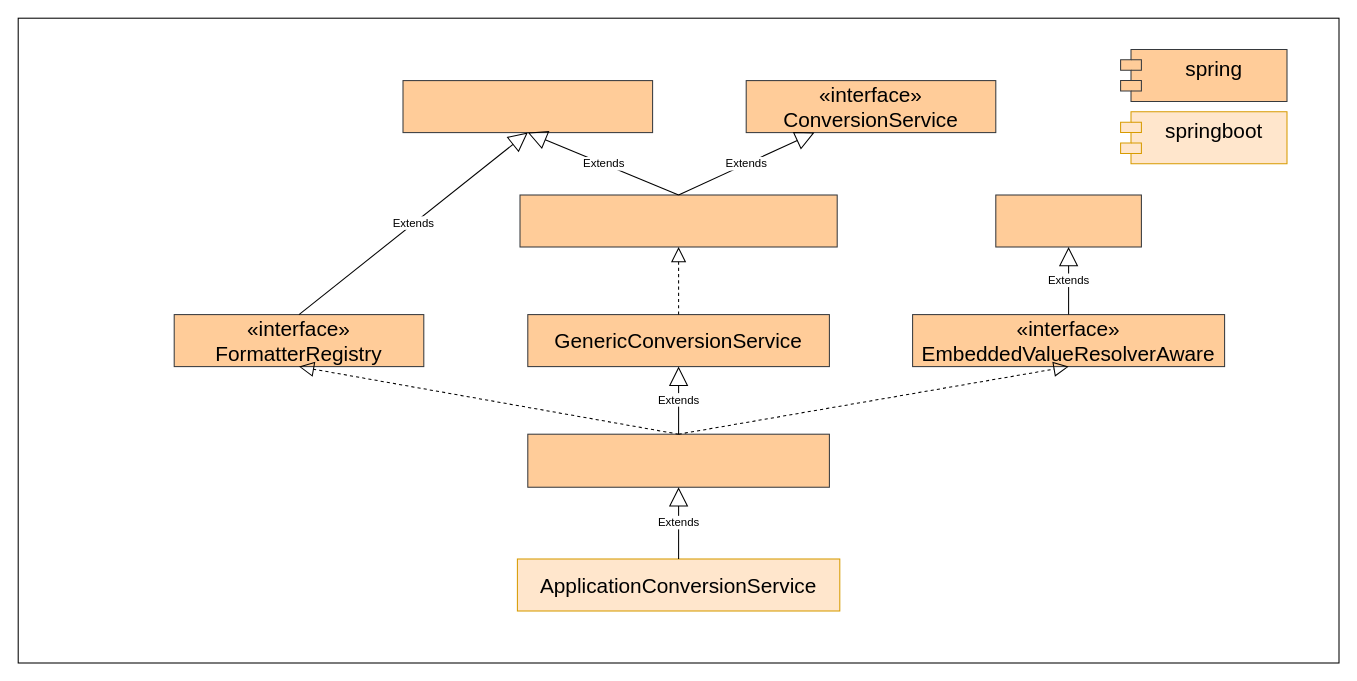
Some shapes in this 1357 by 681 pixel diagram are drawn without their labels. Each missing label, with the box of its shape:
FormattingConversionService: (527, 433, 829, 487)
«interface» Aware: (995, 194, 1141, 247)
«interface» ConfigurableConversionService: (519, 194, 837, 247)
«interface» ConverterRegistry: (402, 80, 653, 133)
